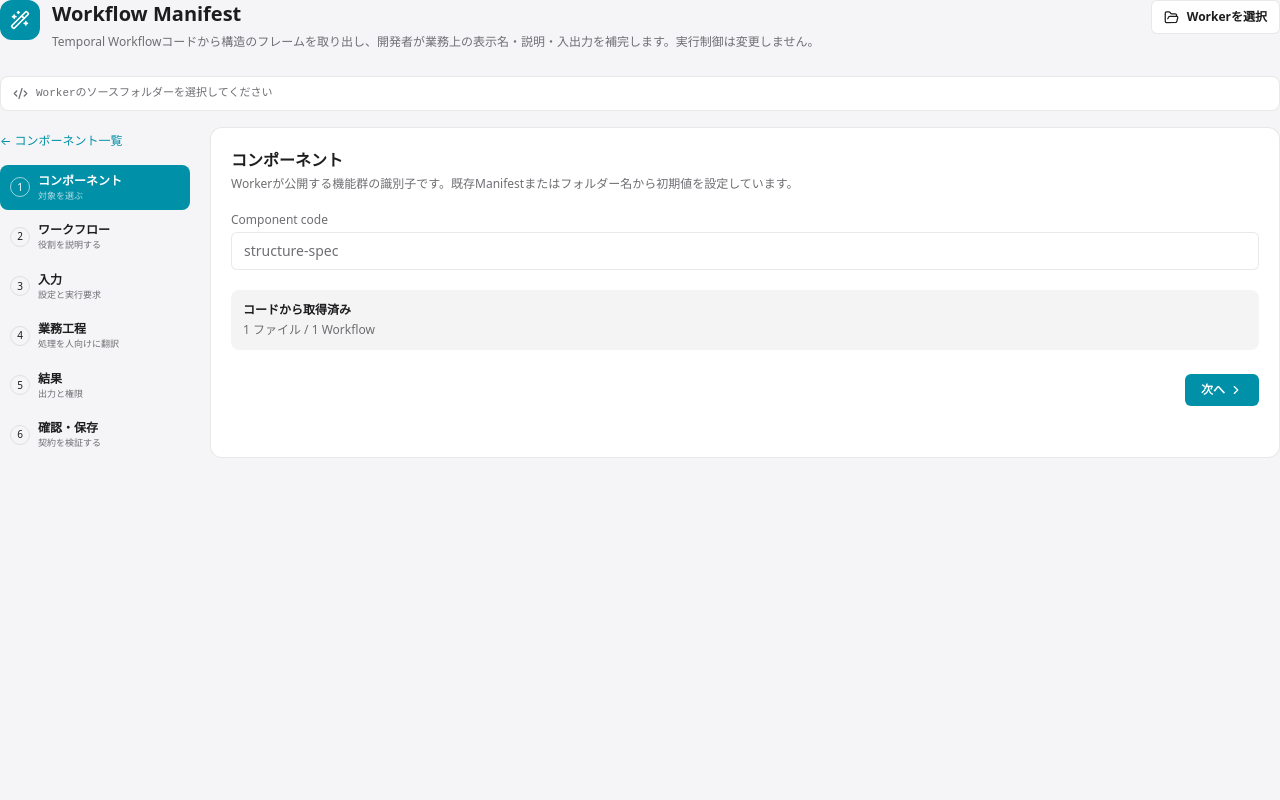
Test case: WorkflowManifestPage › separates generated structure from human-facing step annotations
Click the button "4 業務工程 処理を人向けに翻訳" at {"x": 95, "y": 336}, box [0,313,190,358]
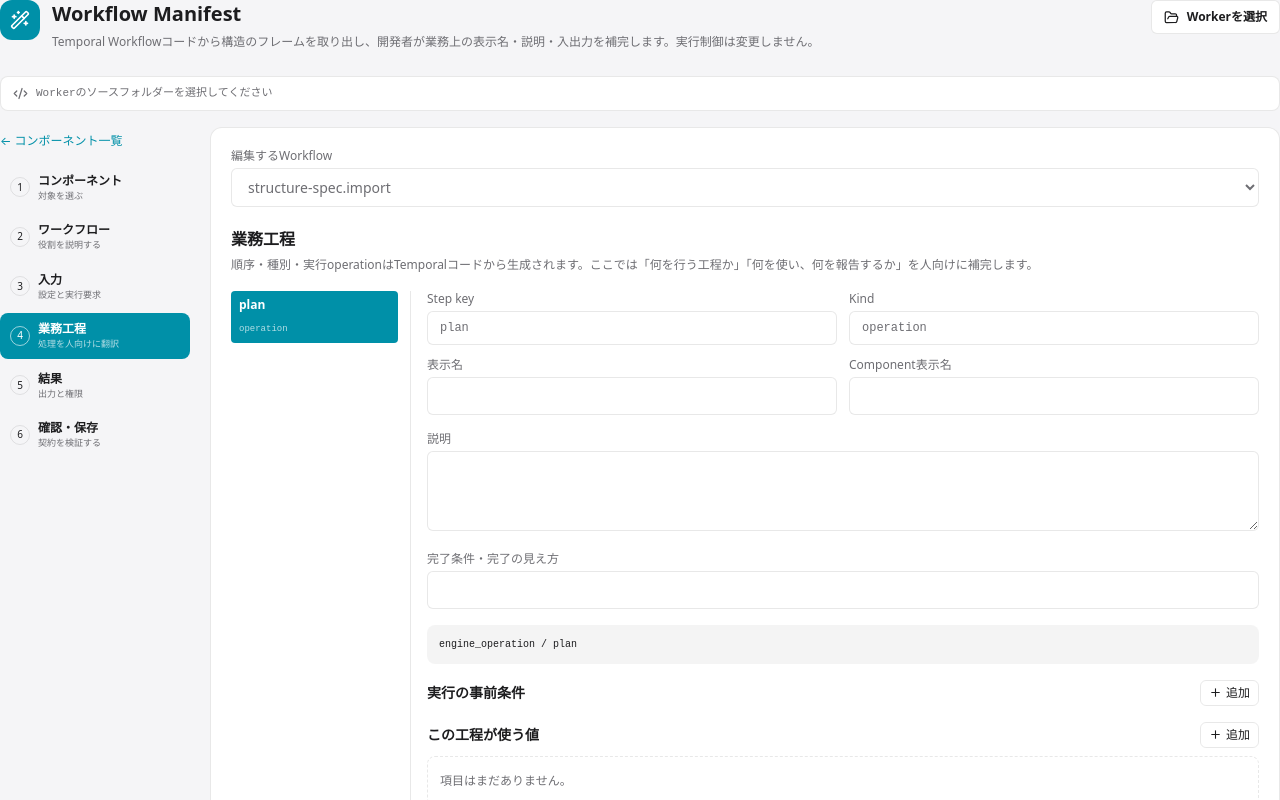
Expected: the text "実行制御は変更しません" is shown, [52,33,819,50]
Result: the text "人向けに補完します" is shown at [231,256,1039,272]
